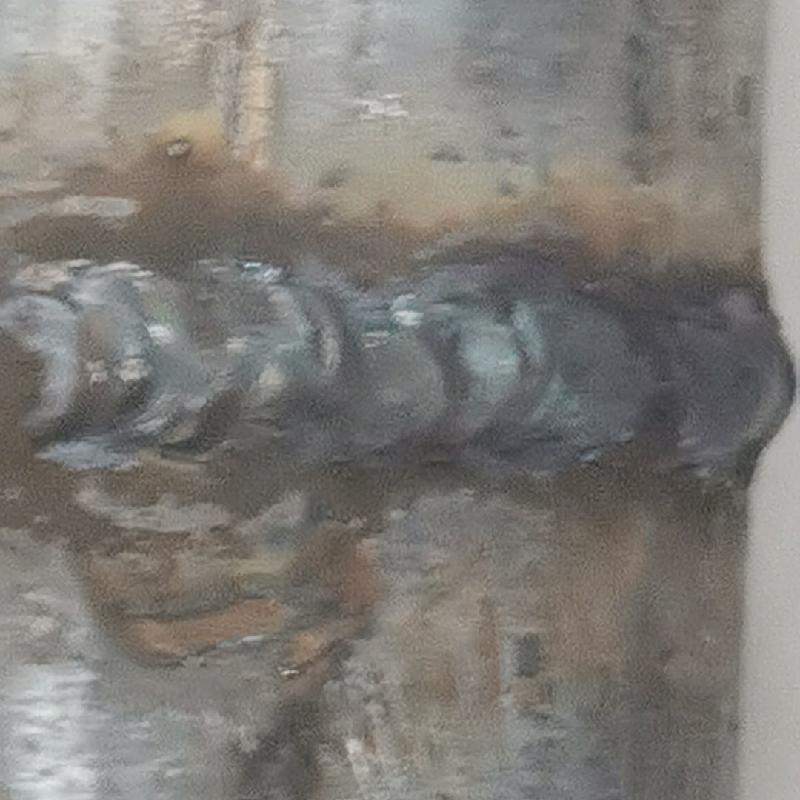good: (2, 234, 799, 499)
